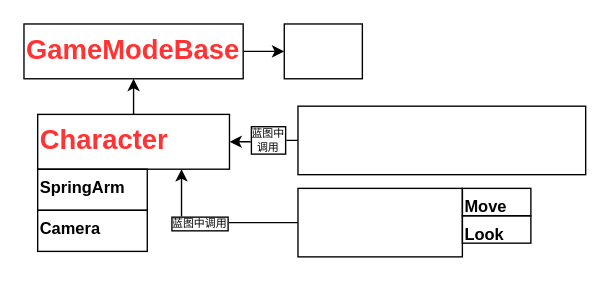
Image size: 610x281. Some labels were removed from this diagram. The shapes that lost their labels are listed below. From the top down, each one's centre as x and y in pixels, then its label:
At point (322, 51): "Level".
At point (441, 140): "InputMappingContext （设置不同行为键盘映射与是否反向）".
At point (379, 222): "InputAction （设置实际运动轴）".
